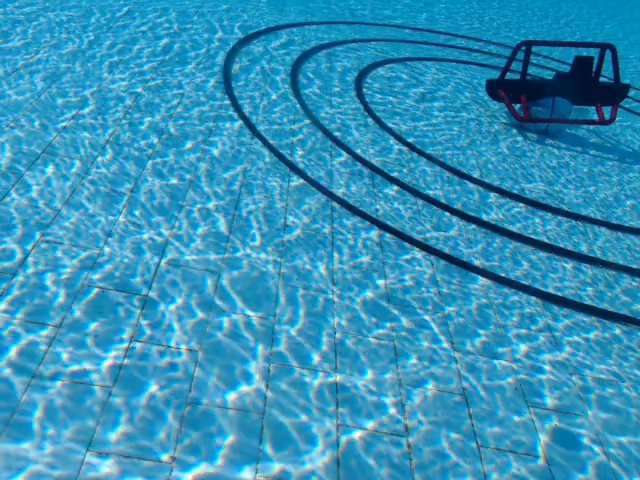submarine: (485, 37, 633, 132)
